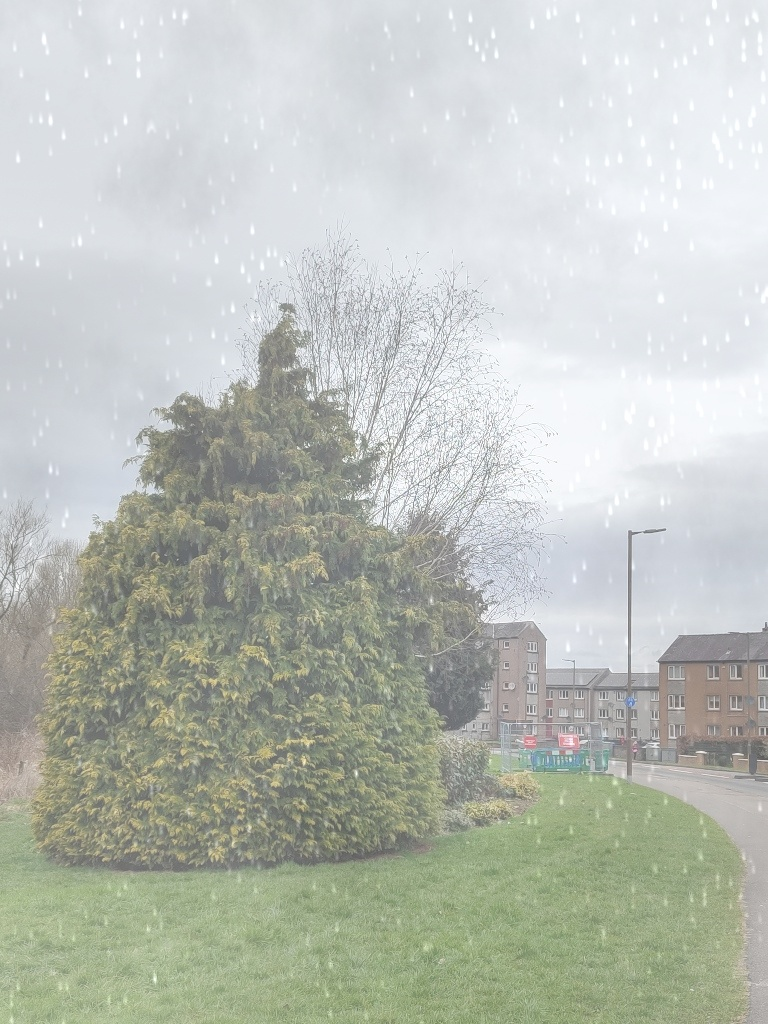Tree: (26, 298, 450, 875)
